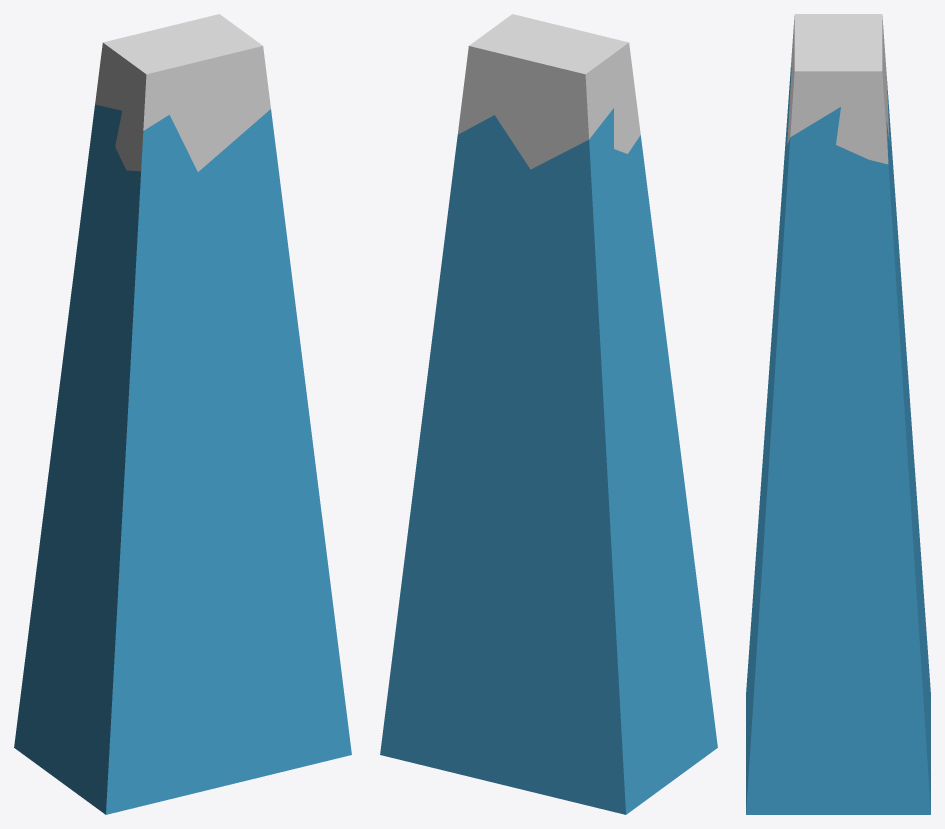
File: Mountain2.fbx
The picture shows the model from 3 angles, left to right: view 1: azimuth 30°, elevation 25°; view 2: azimuth 150°, elevation 25°; view 3: azimuth 270°, elevation 25°; orthographic projection.
Parts seen in each view (by area): view 1: Mountain2; view 2: Mountain2; view 3: Mountain2.
Part boxes in pixels (left/top/right/bottom): Mountain2: left=14, top=14, right=351, bottom=814; Mountain2: left=380, top=14, right=717, bottom=814; Mountain2: left=746, top=14, right=930, bottom=814.
Size of the model in its own units: 120 by 331 by 77.89.
